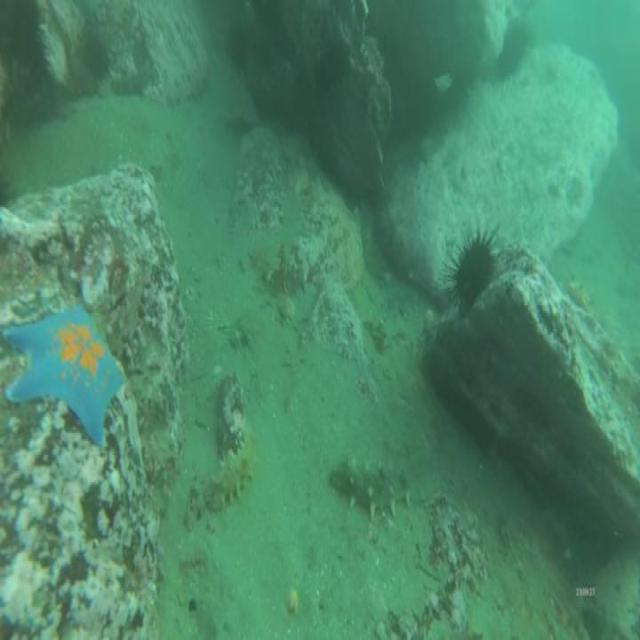echinus: (454, 229, 500, 315)
holothurian: (328, 447, 417, 525), (212, 427, 258, 512)
starfish: (0, 300, 124, 447)
